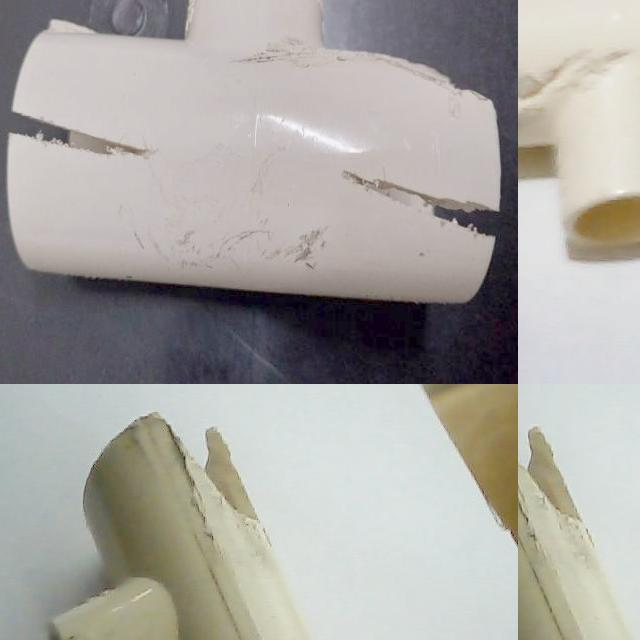Defective: (329, 167, 504, 257), (141, 206, 347, 273), (160, 419, 260, 529), (377, 43, 499, 118), (17, 116, 169, 174), (518, 419, 585, 529), (518, 20, 566, 152), (243, 34, 325, 106), (39, 9, 97, 78)
T Joint: (4, 0, 503, 307), (53, 414, 312, 640), (518, 429, 635, 640)
